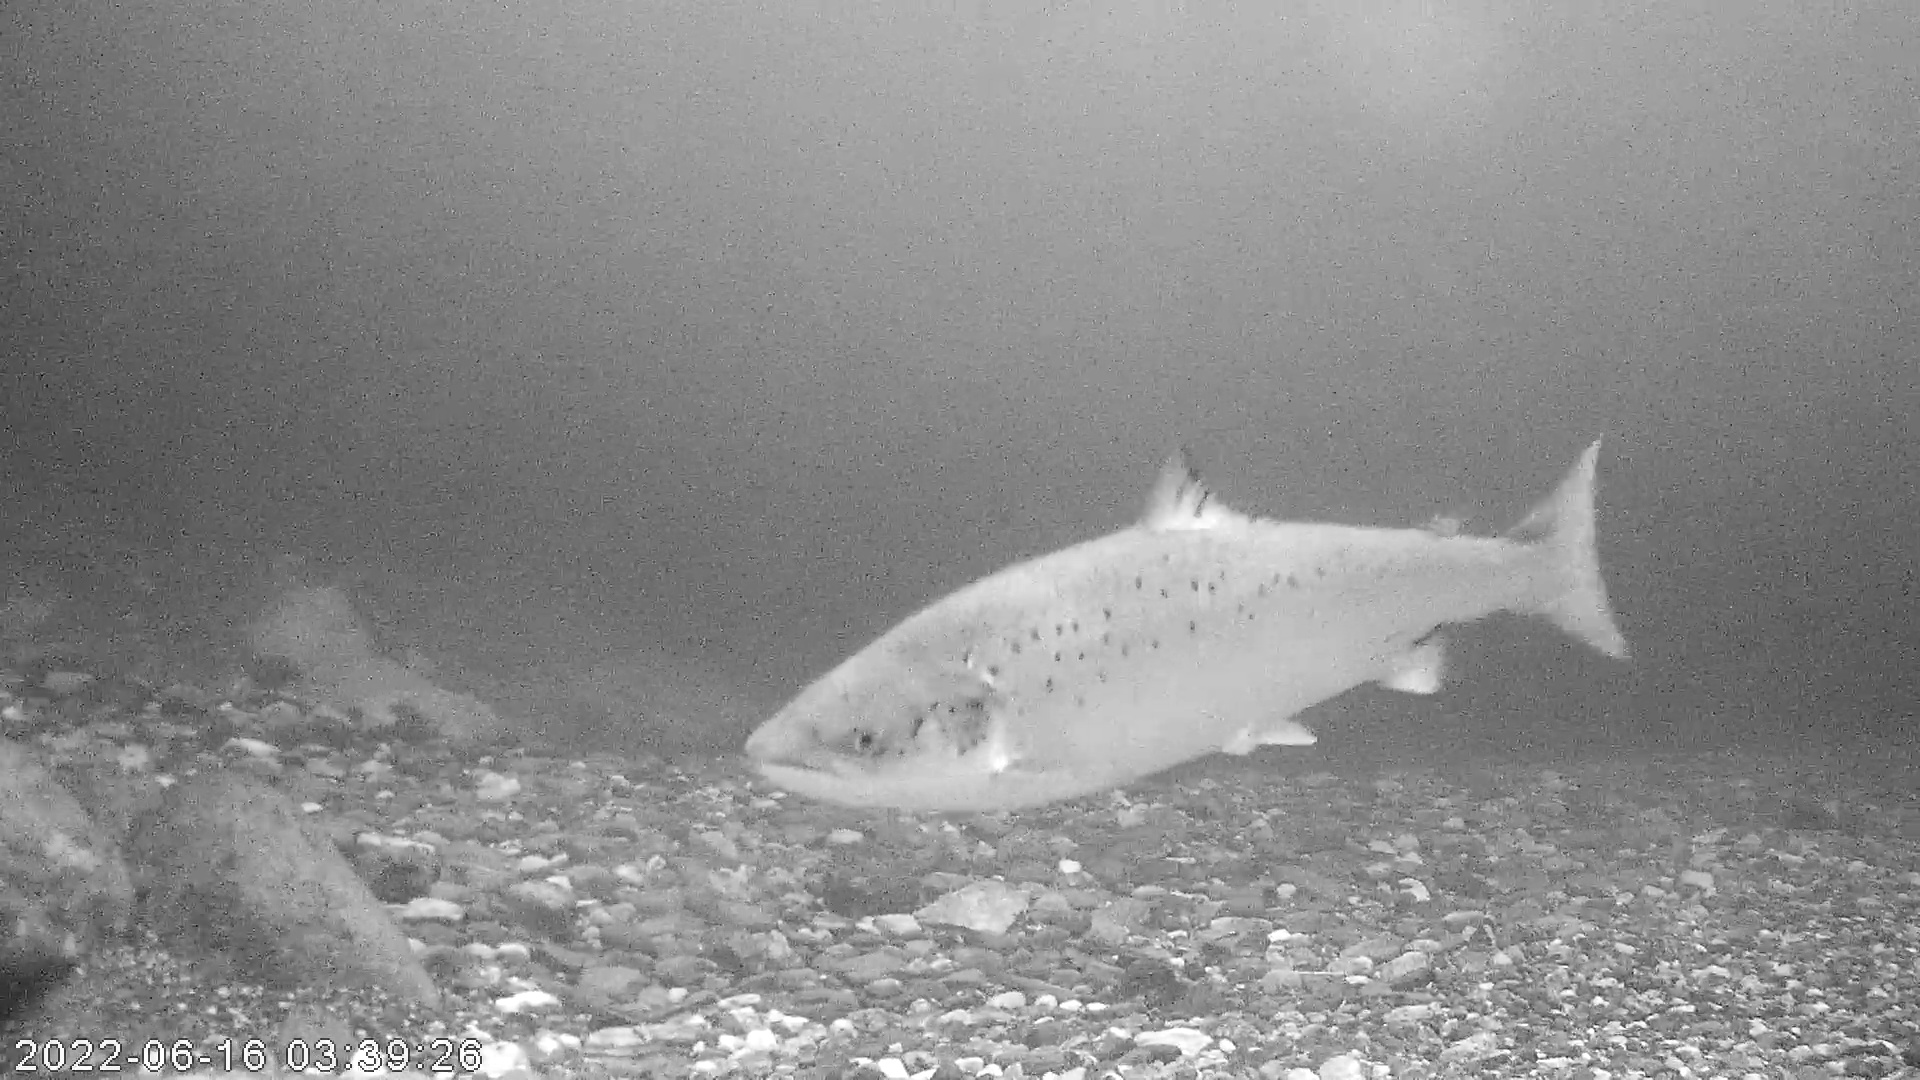salmon: (737, 431, 1633, 814)
